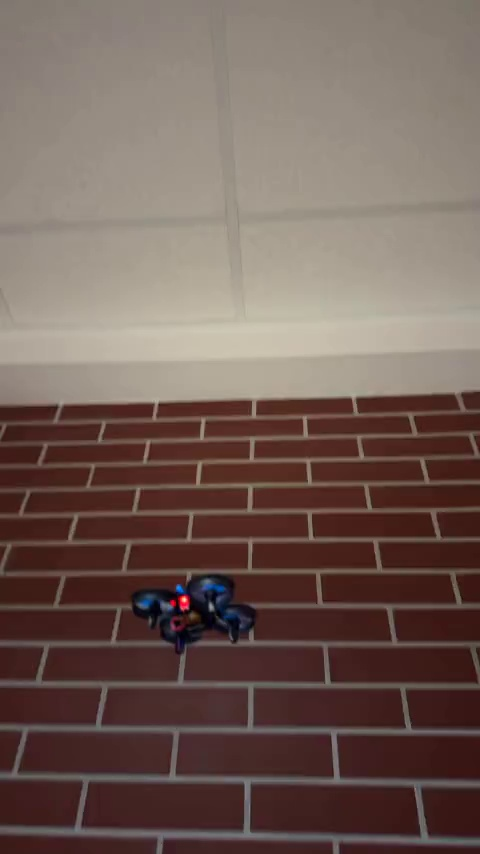drone: (131, 575, 256, 652)
